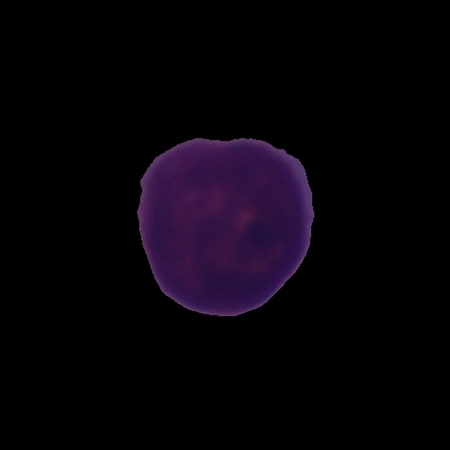ALL: (133, 133, 317, 319)
